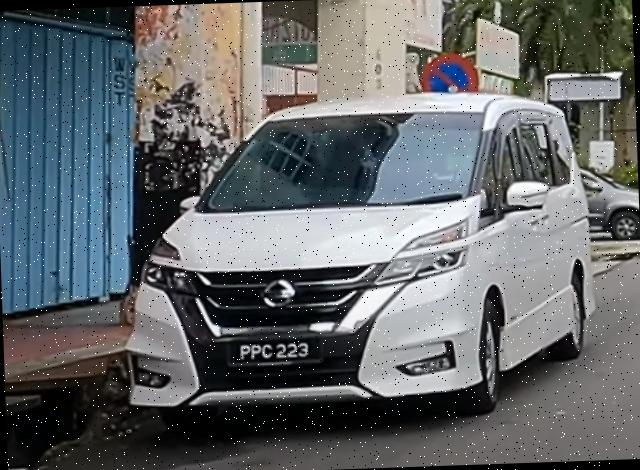License_Plate: (224, 335, 324, 369)
car: (117, 86, 602, 429)
